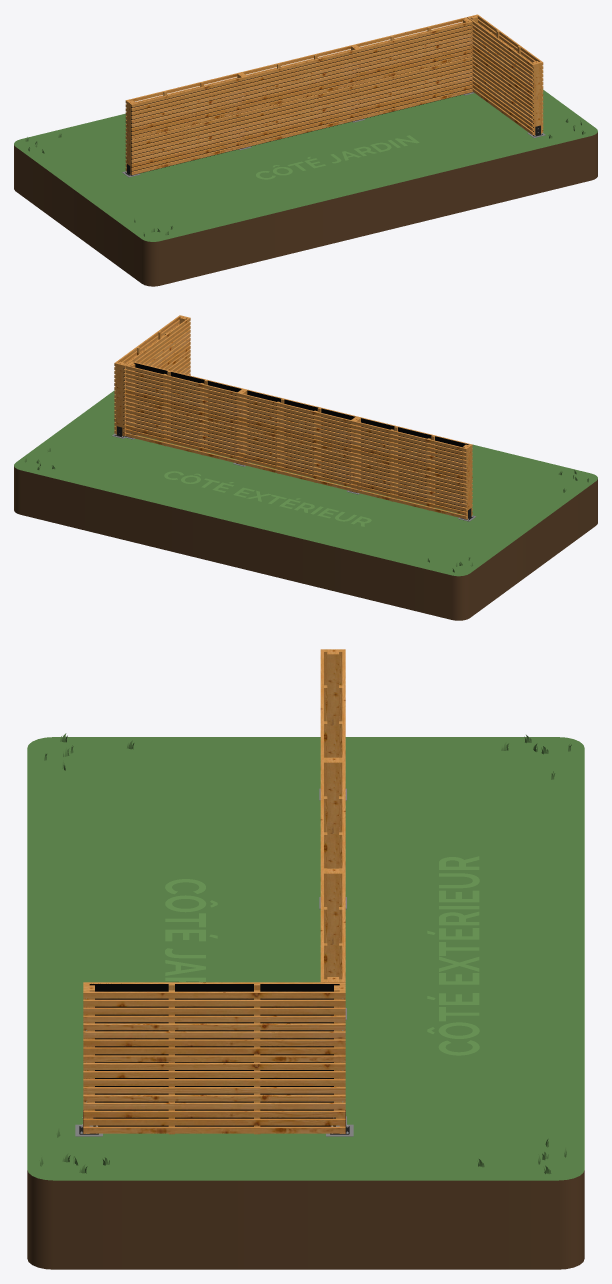
The model's file is glb-120.glb.
3 renders of one model, top to bottom at view 1: azimuth 30°, elevation 25°; view 2: azimuth 150°, elevation 25°; view 3: azimuth 270°, elevation 25°, orthographic. The views are drawn at different scales.
Visible parts, largest first — view 1: Scène_Sol, Panneau_4_Sol, Panneau_1_Sol, Panneau_5_Sol, Panneau_6_Sol, Panneau_3_Sol, Panneau_2_Sol, Panneau_8_Sol, Panneau_7_Sol, Occultant_5_Sol, Occultant_4_Sol, Occultant_6_Sol (+9 smaller); view 2: Scène_Sol, Panneaux_2ème_Face_6_Sol, Panneaux_2ème_Face_3_Sol, Panneaux_2ème_Face_4_Sol, Panneaux_2ème_Face_1_Sol, Panneaux_2ème_Face_5_Sol, Panneaux_2ème_Face_2_Sol, Panneau_8_Sol, Côté Extérieur Label_Sol, Occultant_5_Sol, Occultant_6_Sol, Occultant_4_Sol (+5 smaller); view 3: Scène_Sol, Panneaux_2ème_Face_8_Sol, Panneaux_2ème_Face_7_Sol, Occultant_8_Sol, Côté Extérieur Label_Sol, Occultant_7_Sol, Côté Jardin Label_Sol, Poteau_2_Sol, Poteau_1_Sol, Poteau_3_Sol, Panneau_4_Sol, Panneau_6_Sol (+1 smaller).
Boxes of the visible parts, x1,y1,x2,y2 form: Scène_Sol: (14,89,597,286); Panneau_4_Sol: (130,76,245,139); Panneau_1_Sol: (130,112,245,174); Panneau_5_Sol: (244,48,358,111); Panneau_6_Sol: (358,20,472,83); Panneau_3_Sol: (358,57,472,119); Panneau_2_Sol: (245,84,358,147); Panneau_8_Sol: (467,16,535,100); Panneau_7_Sol: (472,56,535,135); Occultant_5_Sol: (244,52,358,111); Occultant_4_Sol: (131,80,244,139); Occultant_6_Sol: (358,25,471,84); Scène_Sol: (14,390,597,620); Panneaux_2ème_Face_6_Sol: (353,420,467,483); Panneaux_2ème_Face_3_Sol: (353,456,467,519); Panneaux_2ème_Face_4_Sol: (125,365,240,428); Panneaux_2ème_Face_1_Sol: (125,401,239,463); Panneaux_2ème_Face_5_Sol: (239,392,353,455); Panneaux_2ème_Face_2_Sol: (239,429,353,491); Panneau_8_Sol: (122,317,190,400); Côté Extérieur Label_Sol: (164,471,371,526); Occultant_5_Sol: (247,390,355,447); Occultant_6_Sol: (134,362,241,419); Occultant_4_Sol: (361,418,468,475); Scène_Sol: (27,733,584,1269); Panneaux_2ème_Face_8_Sol: (83,990,345,1062); Panneaux_2ème_Face_7_Sol: (83,1063,345,1134); Occultant_8_Sol: (89,984,339,1055); Côté Extérieur Label_Sol: (427,856,479,1055); Occultant_7_Sol: (95,1062,333,1126); Côté Jardin Label_Sol: (165,879,217,982); Poteau_2_Sol: (327,757,338,868); Poteau_1_Sol: (327,649,338,757); Poteau_3_Sol: (327,868,338,976); Panneau_4_Sol: (320,649,327,760); Panneau_6_Sol: (320,871,327,982).
Bounding box in the file's own units: 8 × 1.95 × 4.25.
8 materials, 1 textured.
